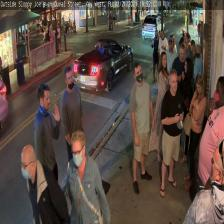person: (65, 129, 109, 223), (19, 142, 64, 224), (182, 140, 224, 222), (34, 83, 59, 210), (159, 70, 184, 195), (130, 63, 154, 193), (60, 66, 83, 186), (184, 73, 207, 187), (199, 76, 224, 178), (150, 51, 169, 164), (179, 57, 195, 163), (173, 44, 188, 154)
